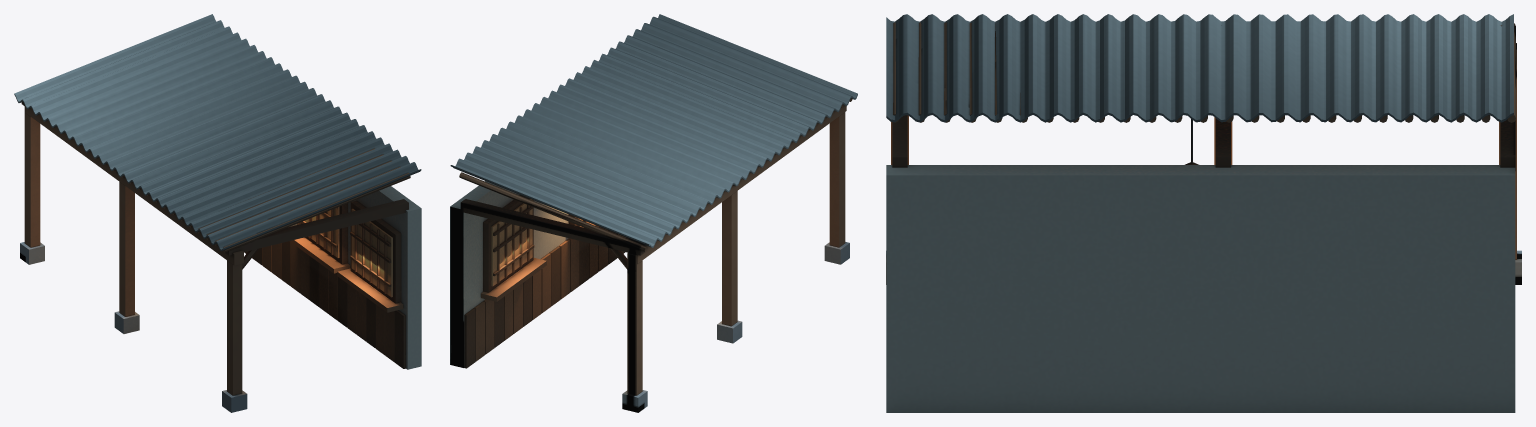
The model's file is old-eaves.glb.
The picture shows the model from 3 angles, left to right: view 1: azimuth 30°, elevation 25°; view 2: azimuth 150°, elevation 25°; view 3: azimuth 270°, elevation 25°; orthographic projection. The views are drawn at different scales.
Visible parts, largest first — view 1: old-eaves-baked; view 2: old-eaves-baked; view 3: old-eaves-baked.
Boxes of the visible parts, <box> form: old-eaves-baked: <box>14,14,421,412</box>; old-eaves-baked: <box>450,14,857,412</box>; old-eaves-baked: <box>886,14,1521,412</box>.
Size of the model in its own units: 3.84 by 3.69 by 7.08.
1 material, 1 textured.
